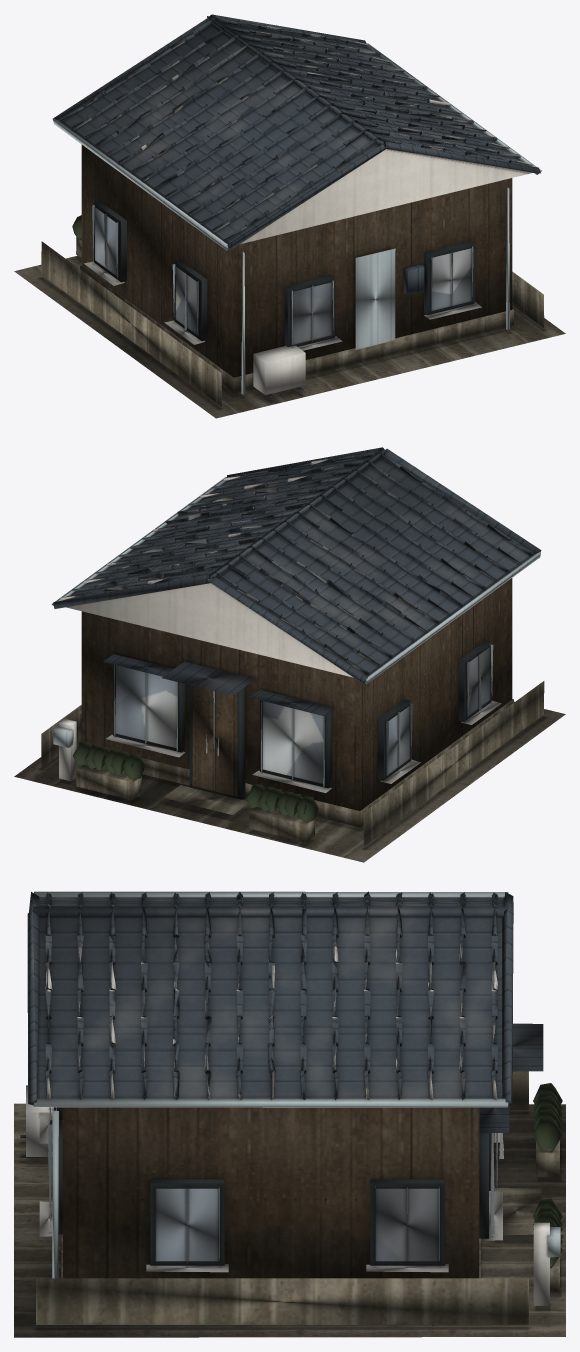
The model's file is residential_013.lod1.obj.
The picture shows the model from 3 angles, top to bottom: view 1: azimuth 30°, elevation 25°; view 2: azimuth 150°, elevation 25°; view 3: azimuth 270°, elevation 25°; orthographic projection. The views are drawn at different scales.
Visible parts, largest first — view 1: residential_013; view 2: residential_013; view 3: residential_013.
Part boxes in pixels (x1,y1,x2,y2): residential_013: (14,14,565,418); residential_013: (14,447,565,862); residential_013: (14,891,565,1337).
Bounding box in the file's own units: 7.25 × 4.56 × 7.25.
1 material, 1 textured.
